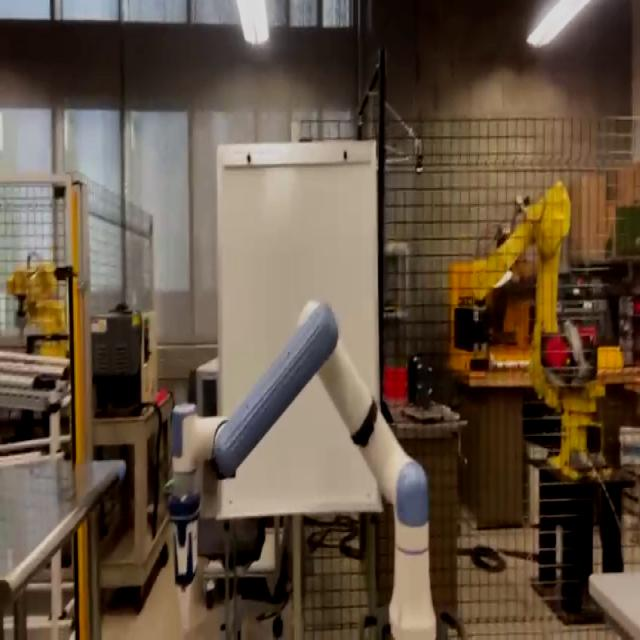robot: (164, 298, 440, 638)
